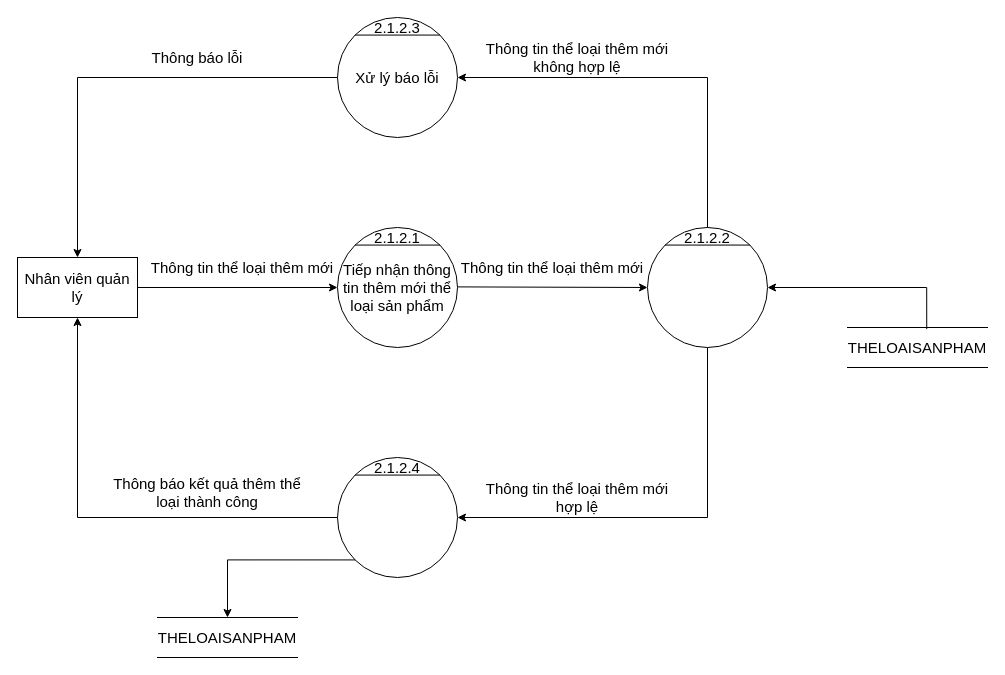
Image size: 1005x675. Some labels were removed from this diagram. Each missing label, with the box of its shape:
Kiểm tra thông tin hợp lệ: (646, 226, 768, 348)
Thêm thể loại: (336, 456, 458, 578)
